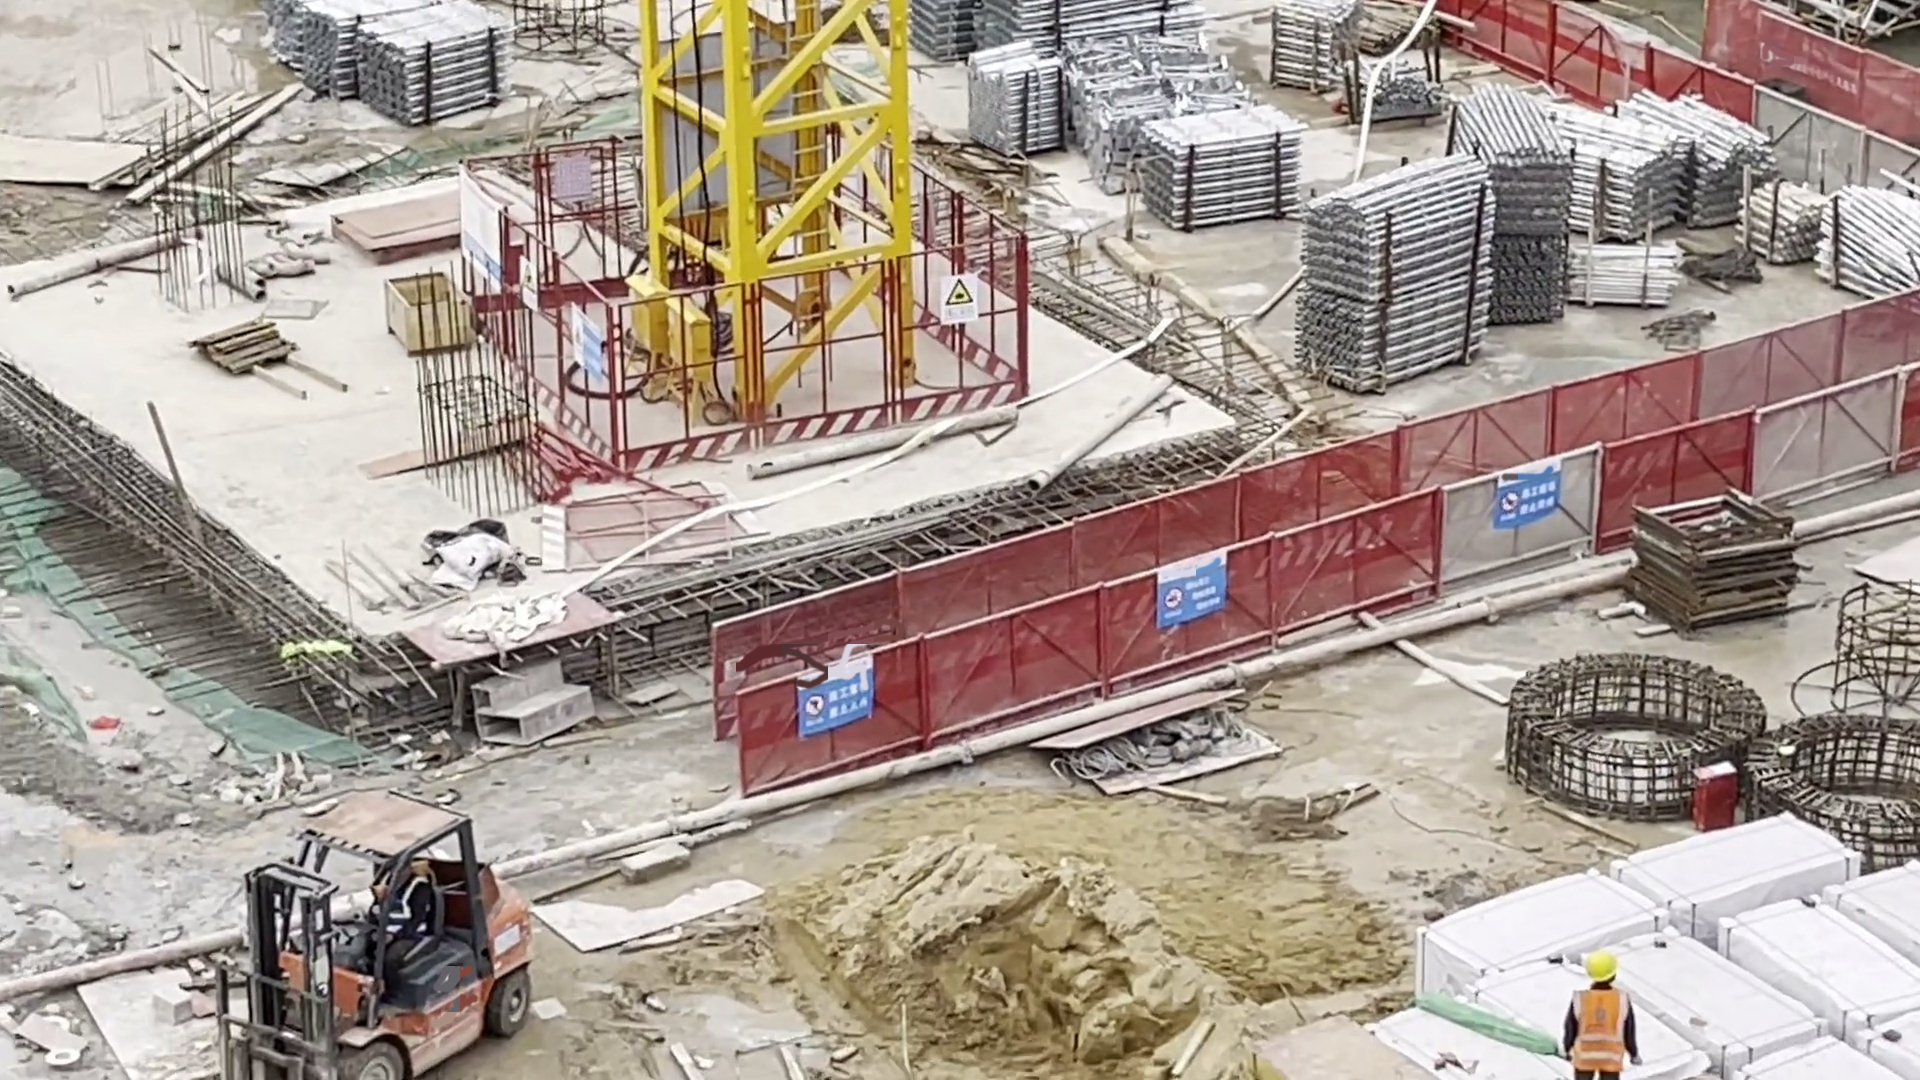ebox: (667, 299, 716, 426), (624, 275, 668, 394)
person: (1559, 944, 1642, 1080)
scaffold: (1301, 148, 1492, 390), (254, 1, 512, 125), (1448, 82, 1572, 326), (1631, 89, 1775, 228), (1141, 101, 1297, 227), (910, 1, 1203, 61), (1556, 100, 1676, 238), (968, 44, 1072, 150), (1818, 187, 1920, 296), (1271, 1, 1357, 91), (1573, 244, 1680, 312), (1742, 181, 1822, 262)
slogan: (801, 657, 870, 737), (1158, 550, 1228, 627), (1494, 455, 1561, 529)
vest: (1570, 989, 1628, 1073)
